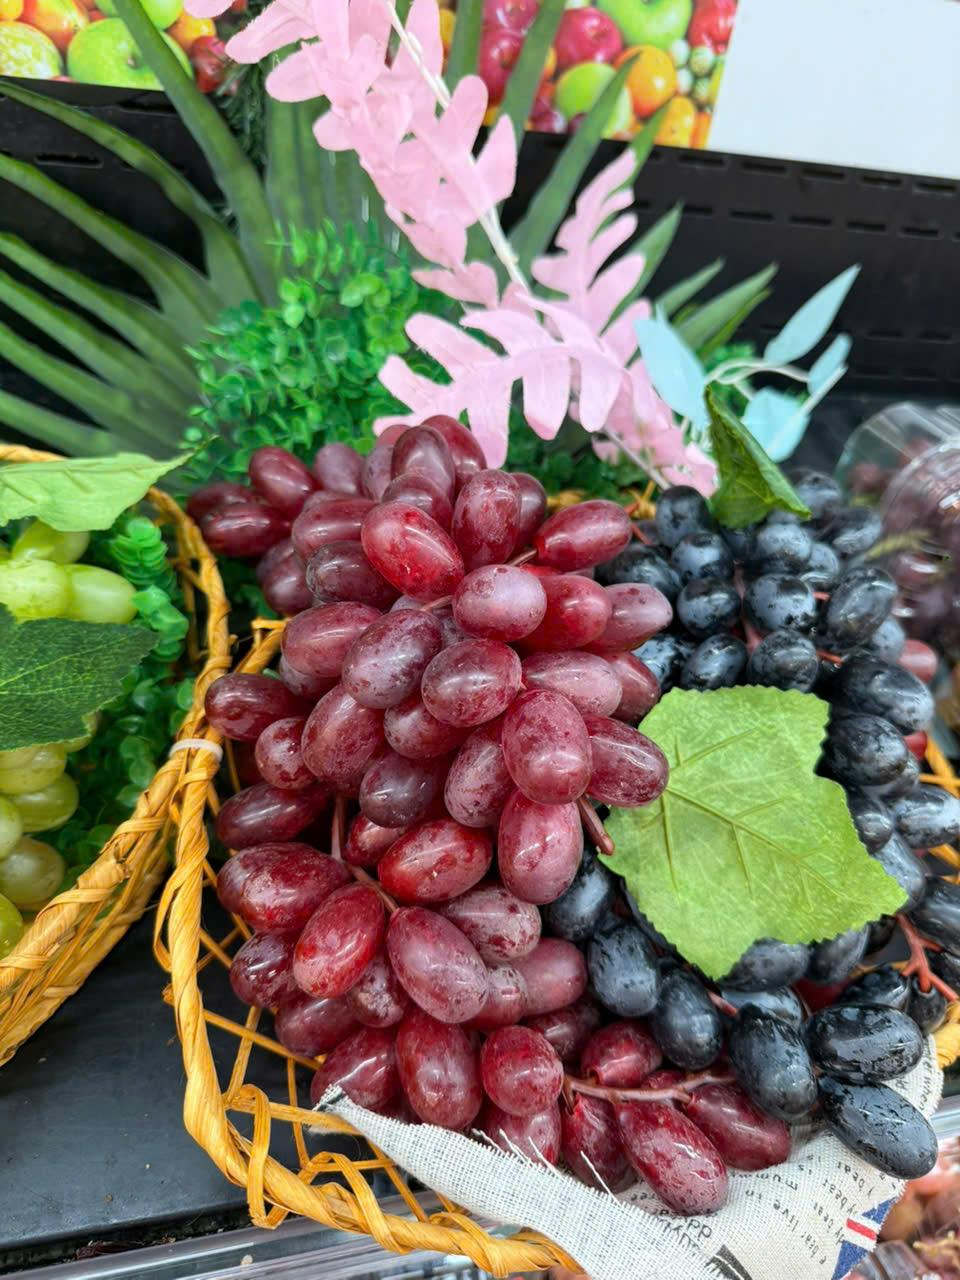grape: (157, 410, 666, 1213)
